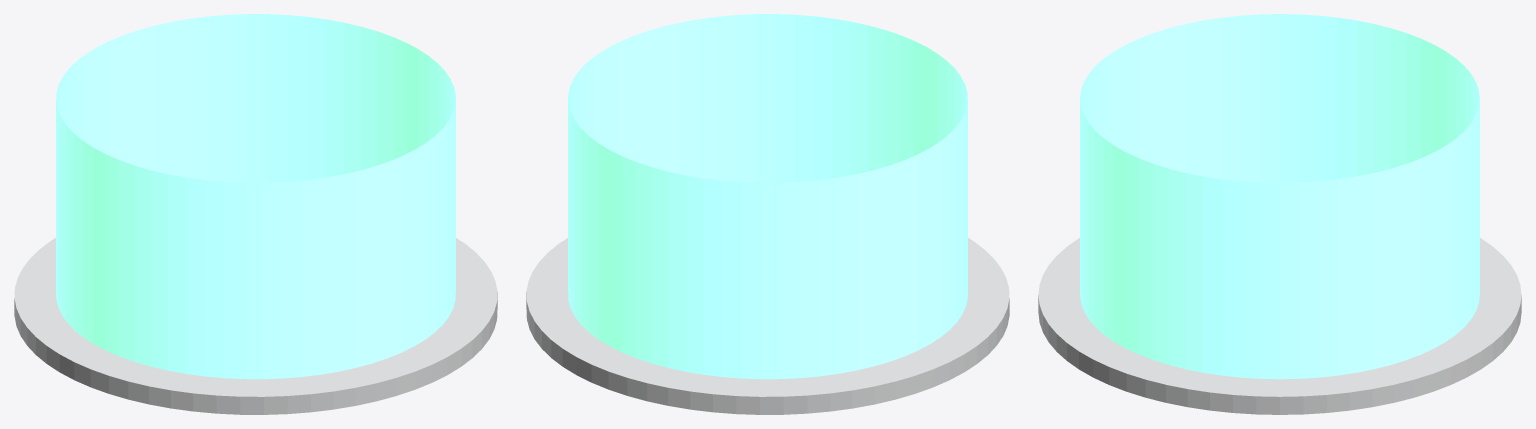
Rendered from Plaque_Hologramme.glb.
3 renders of one model, left to right at view 1: azimuth 30°, elevation 25°; view 2: azimuth 150°, elevation 25°; view 3: azimuth 270°, elevation 25°, orthographic.
Parts seen in each view (by area): view 1: Plaque_Hologramme, Plaque_Socle; view 2: Plaque_Hologramme, Plaque_Socle; view 3: Plaque_Hologramme, Plaque_Socle.
Part boxes in pixels (left/top/right/bottom): Plaque_Hologramme: left=56, top=14, right=455, bottom=379; Plaque_Socle: left=14, top=238, right=497, bottom=414; Plaque_Hologramme: left=568, top=14, right=967, bottom=379; Plaque_Socle: left=526, top=238, right=1009, bottom=414; Plaque_Hologramme: left=1080, top=14, right=1479, bottom=379; Plaque_Socle: left=1038, top=238, right=1521, bottom=414.
Bounding box in the file's own units: 2.9 × 1.42 × 2.9.
